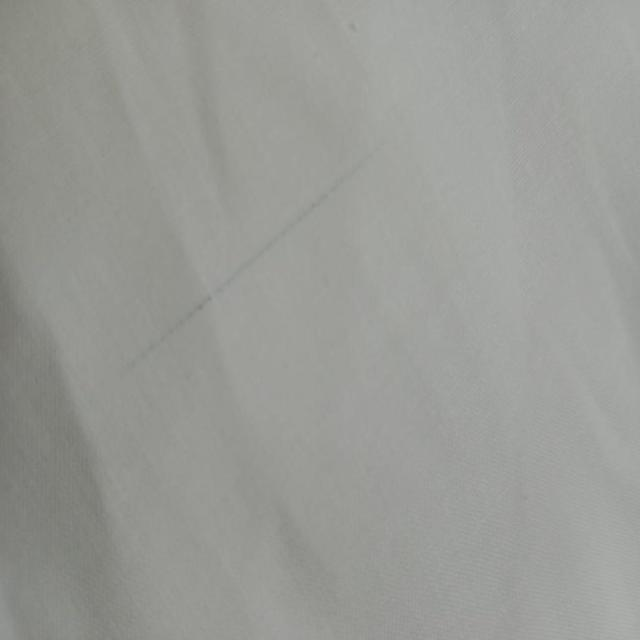contamination: (125, 263, 256, 369), (252, 152, 375, 262)
